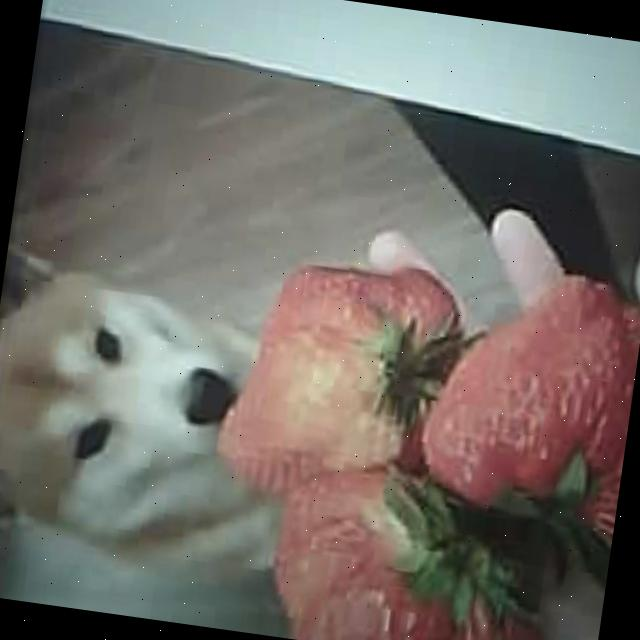strawberry: (410, 259, 640, 549)
